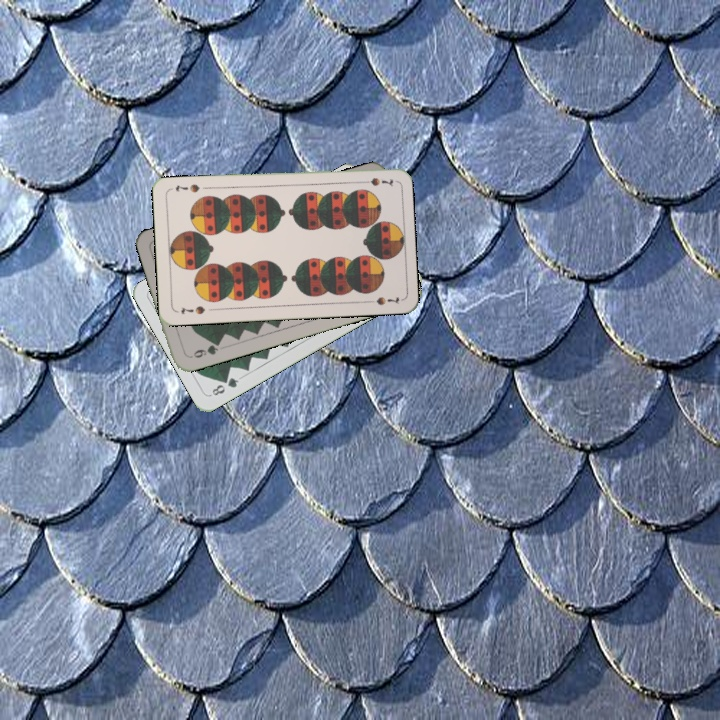G8: (206, 373, 241, 398)
G9: (185, 337, 223, 361)
S7: (355, 173, 395, 189), (177, 302, 207, 317)
